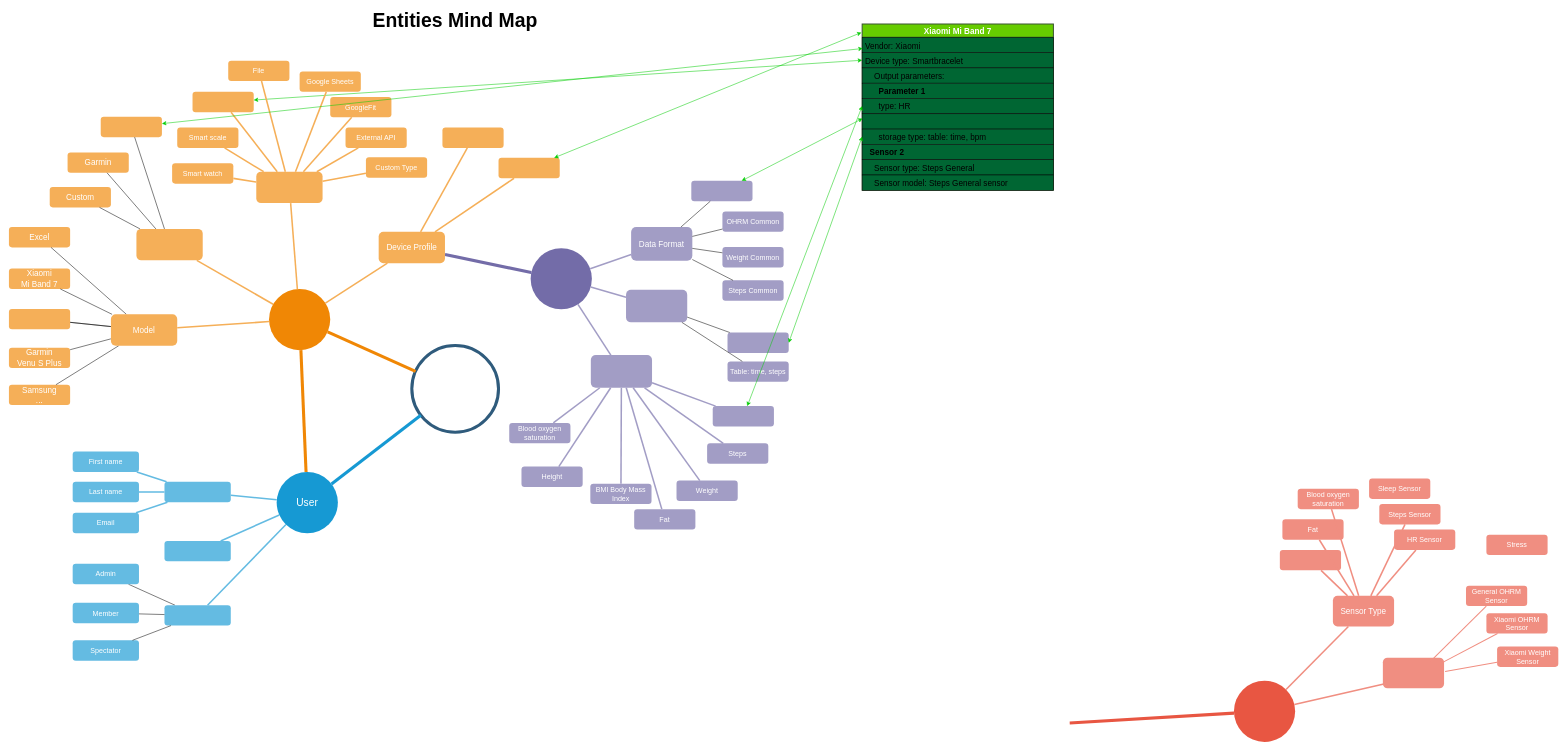
Image size: 1567x751. Some labels were removed from this diagram. The shapes that lost their labels are listed below. From the top down, each one's box as (x1, y1, x2, y2) in pixels, then its label:
(192, 92, 253, 112): Smart bracelet
(862, 113, 1053, 129): format: Xiaomi OHRM Format
(100, 116, 162, 137): Xiaomi
(442, 127, 503, 148): Xiaomi Scale Profile
(256, 171, 322, 203): Device Type
(498, 158, 559, 178): Xiaomi Band 7 Profile
(691, 181, 752, 201): Xioami OHRM Format
(136, 229, 202, 260): Vendor
(530, 248, 592, 309): Parameter
(9, 309, 70, 329): Xiaomi Smart Scale 2
(269, 289, 330, 350): Devices
(626, 289, 687, 322): Storage Type
(727, 332, 788, 353): Table: time, bpm
(410, 344, 500, 434): Project
(591, 355, 652, 387): Parameter Type
(712, 406, 774, 426): Heart Rate
(164, 482, 231, 502): Contacts
(164, 541, 231, 561): Login
(1280, 550, 1341, 570): Weight sensor
(164, 605, 231, 625): Role in project
(1383, 657, 1444, 688): Sensor Model
(1234, 680, 1295, 742): Sensor
